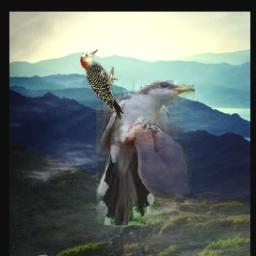Cuckoo: (97, 80, 196, 225)
Woodpecker: (78, 50, 123, 121)
